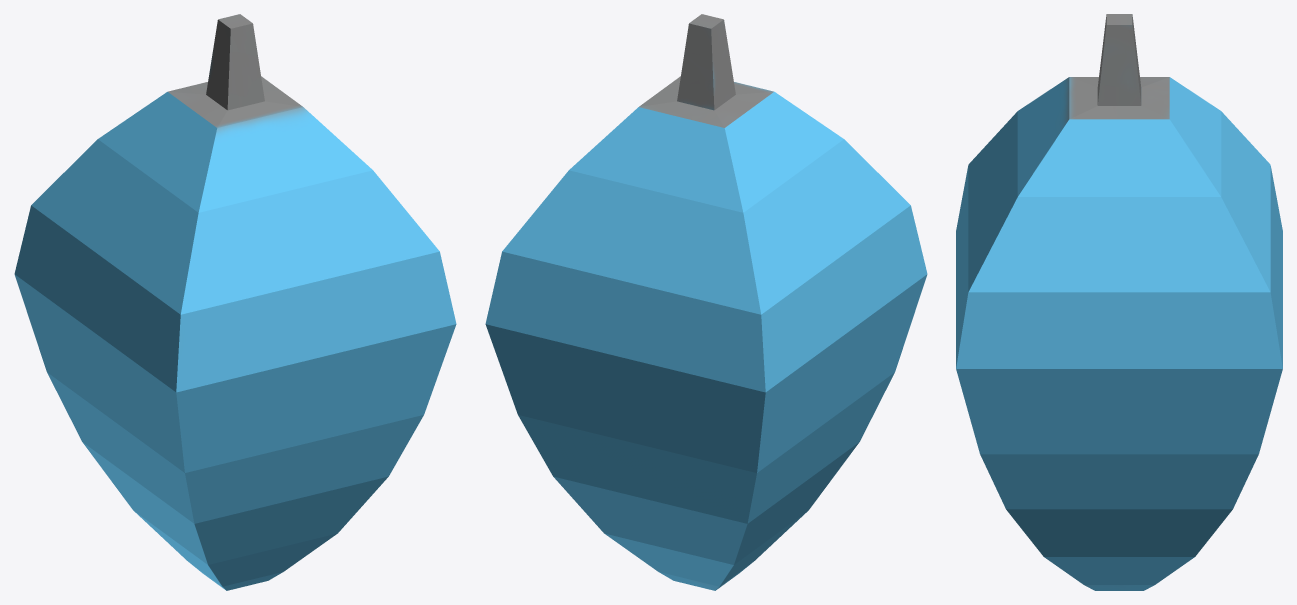
Rendered from light.dae.
The picture shows the model from 3 angles, left to right: view 1: azimuth 30°, elevation 25°; view 2: azimuth 150°, elevation 25°; view 3: azimuth 270°, elevation 25°; orthographic projection.
Visible parts, largest first — view 1: light; view 2: light; view 3: light.
Part boxes in pixels (left/top/right/bottom): light: left=14, top=14, right=456, bottom=590; light: left=485, top=14, right=927, bottom=590; light: left=956, top=14, right=1282, bottom=590.
Size of what is drawn, in the model's own units: 1.49 by 1.49 by 2.83.
